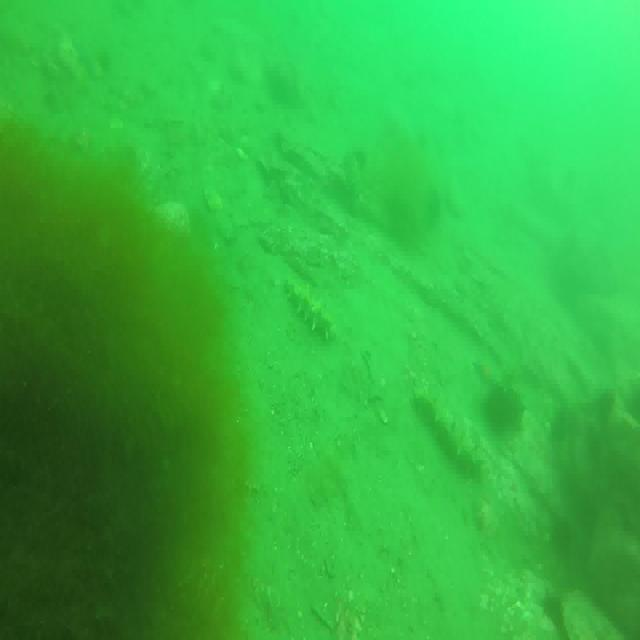holothurian: (415, 384, 482, 478), (287, 276, 336, 344)
starfish: (474, 358, 506, 403)
